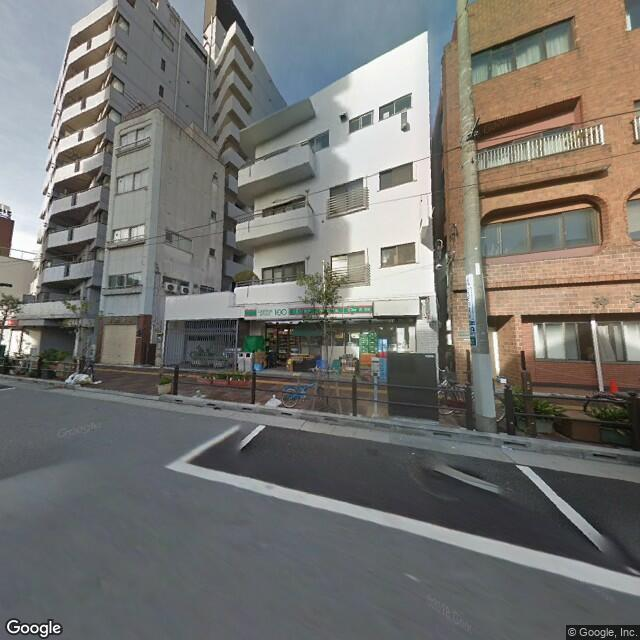lawson: (240, 298, 378, 327)
